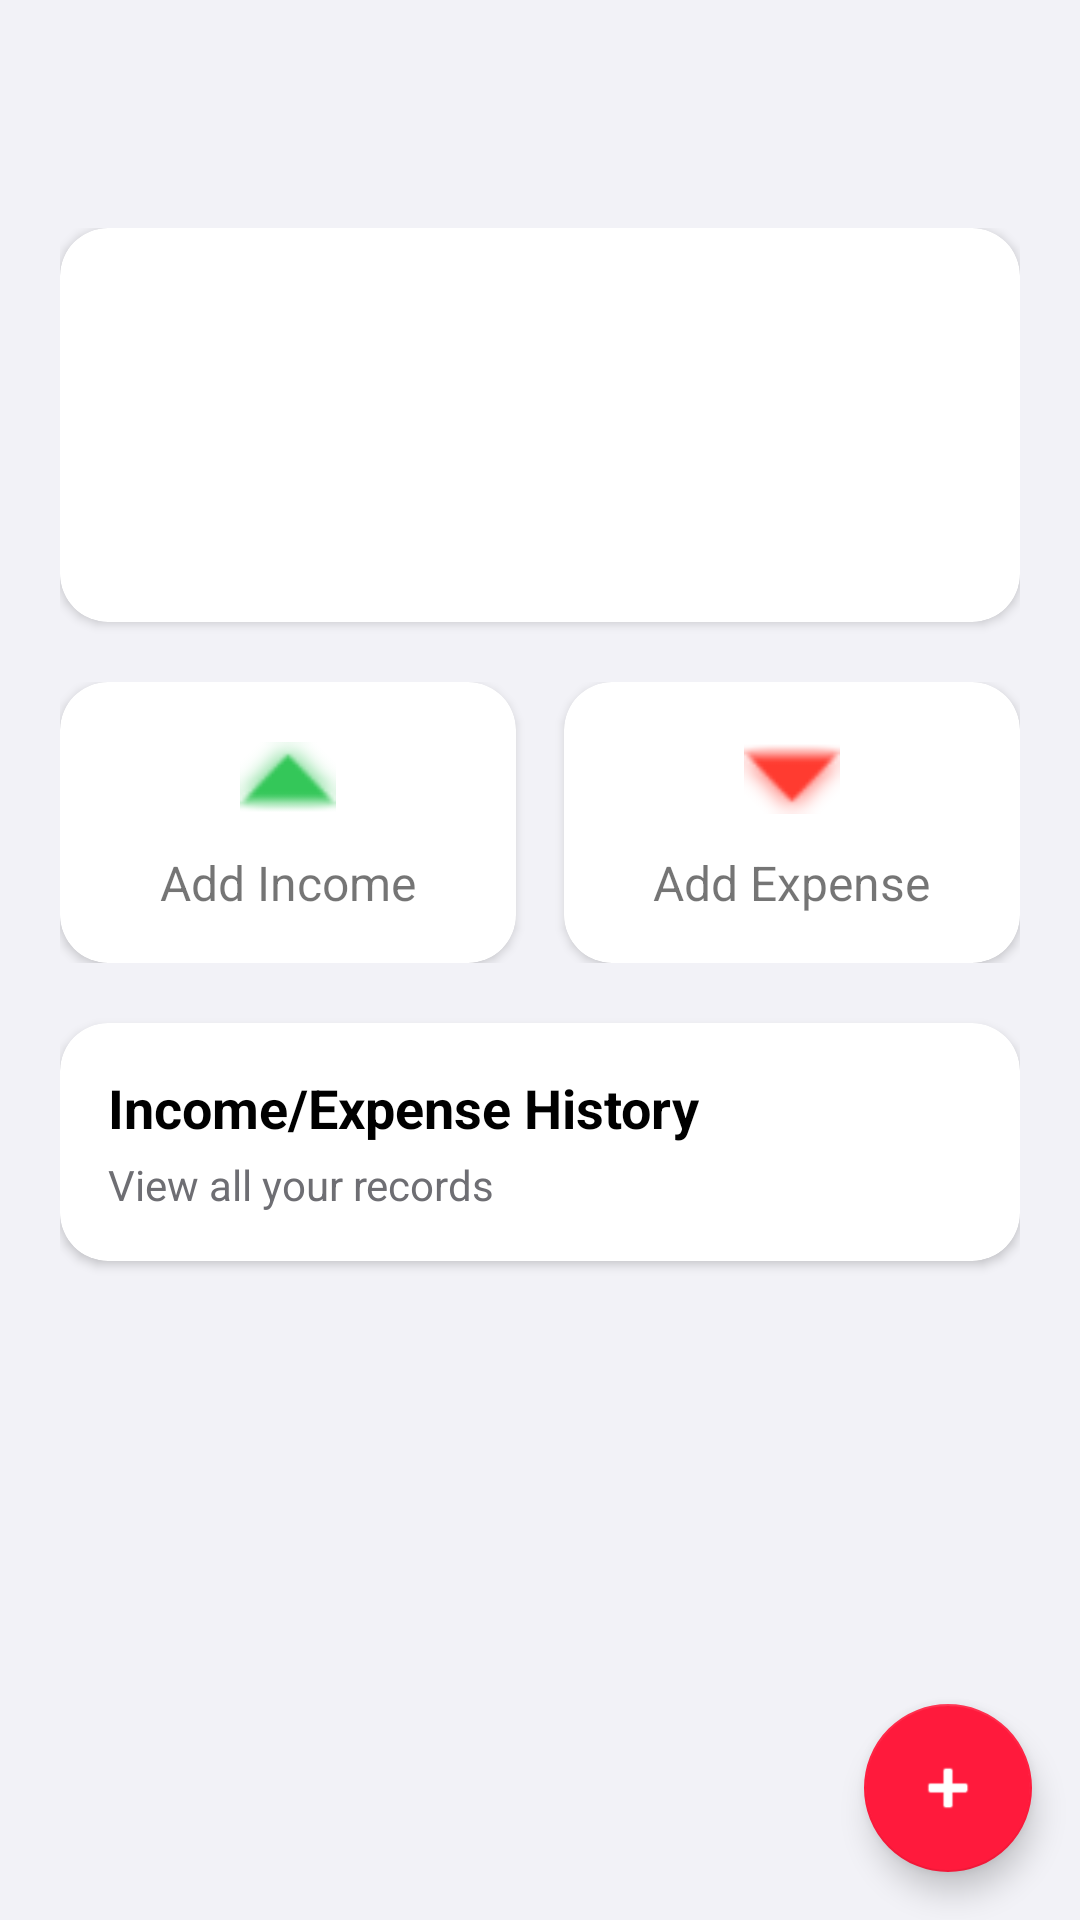

Icon click points for this 1080 x 1920 phone screenshot, format [x,y]:
Add Transaction: [948,1788]
arrow down float: [792,778]
arrow up float: [288,777]
